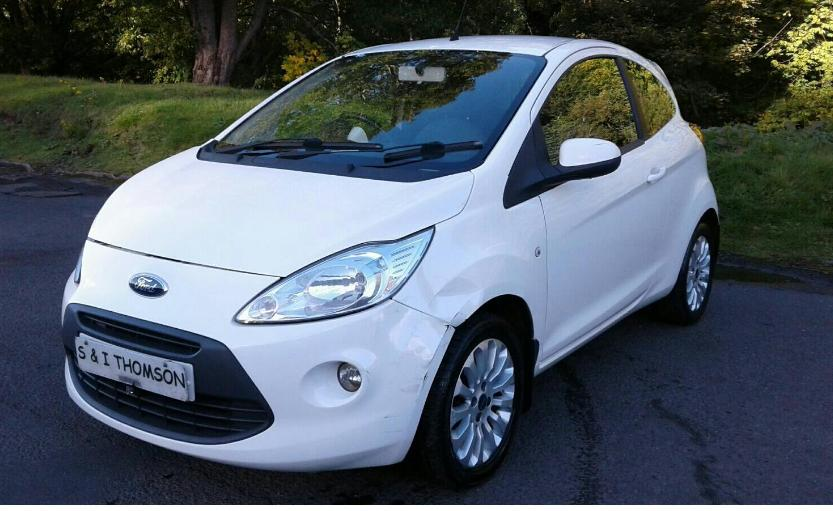Back-window: (623, 61, 674, 139)
Fender: (389, 167, 548, 361)
Front-bumper: (61, 239, 456, 470)
Front-door: (530, 47, 664, 357)
Front-wheel: (413, 312, 533, 486)
Front-window: (539, 58, 638, 164)
Grille: (61, 304, 274, 446)
Headlight: (234, 231, 432, 323), (73, 251, 81, 283)
Hood: (87, 145, 473, 278)
License-plate: (73, 339, 187, 401)
Mirror: (504, 120, 620, 206)
Quarter-panel: (629, 114, 718, 313)
Rocker-panel: (534, 292, 646, 375)
Roof: (349, 36, 618, 57)
Tail-light: (687, 123, 704, 145)
Windshield: (198, 47, 548, 183)
